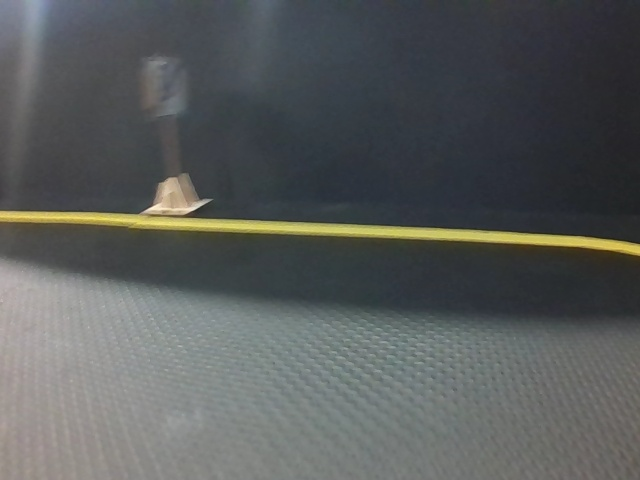no30: (146, 59, 187, 114)
